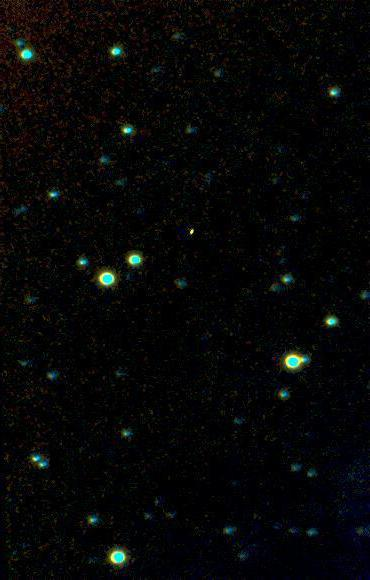star: (344, 515, 370, 545)
